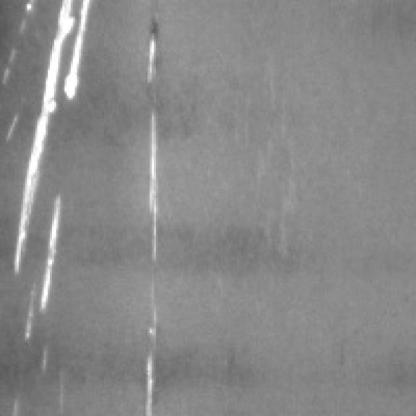scratches: (8, 0, 88, 304), (131, 25, 167, 412)
